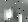person: (1, 11, 8, 21), (16, 12, 22, 22), (8, 8, 13, 19)
